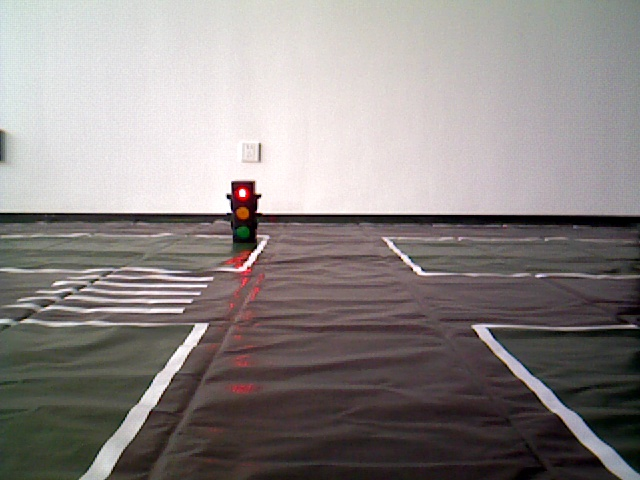red: (229, 183, 255, 244)
